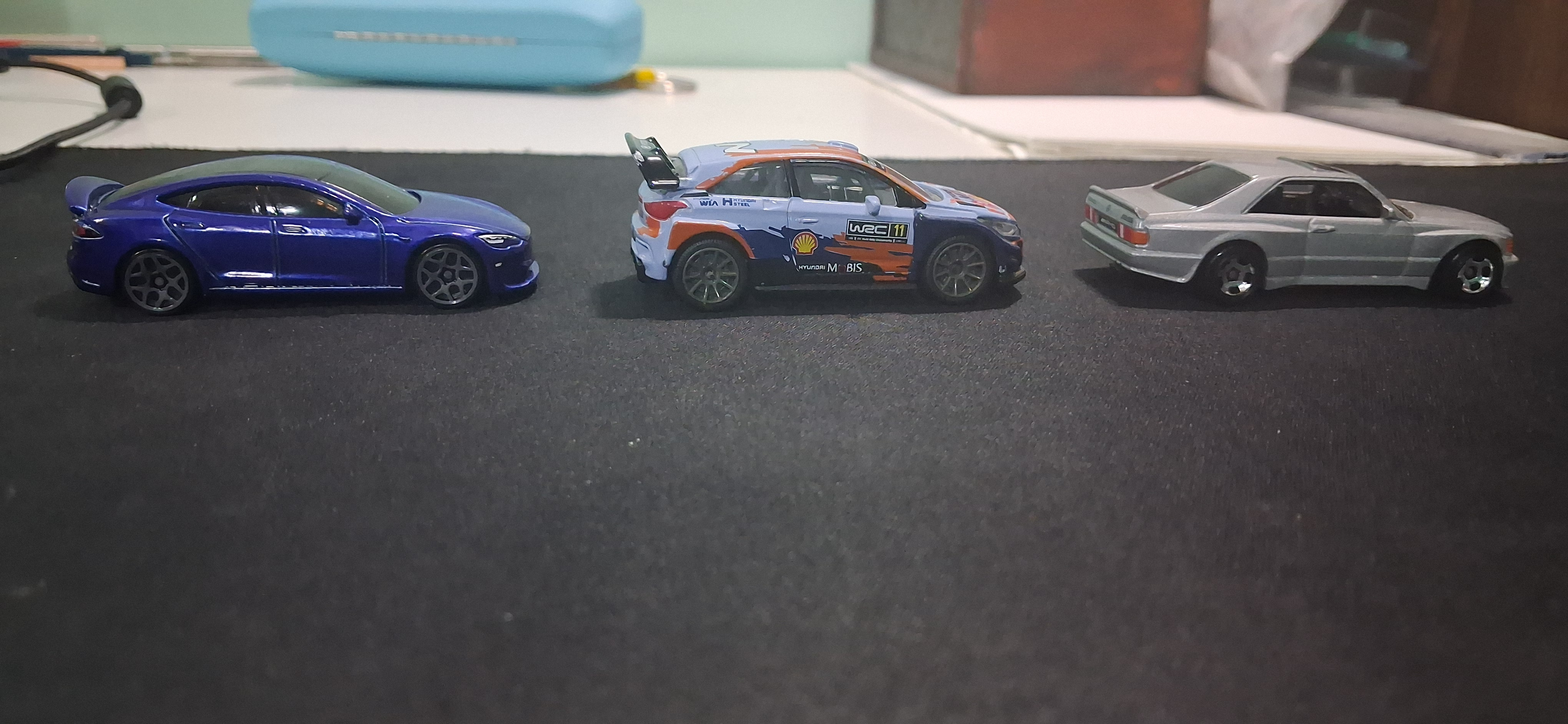Hyundai_I20_WRC: (601, 105, 1027, 348)
Mercedes_Benz_560_SEC_AMG: (1055, 146, 1537, 329)
Tesla_Model_S_Plaid: (40, 141, 539, 349)
